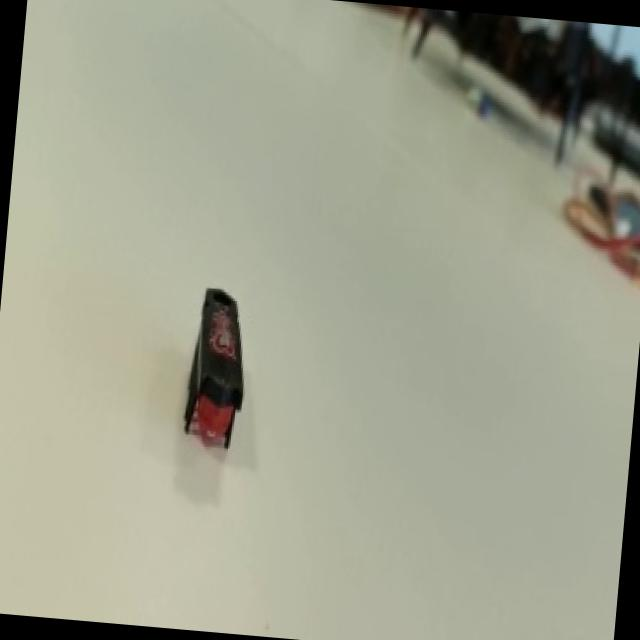2_NanoBug_Negro: (163, 255, 271, 468)
